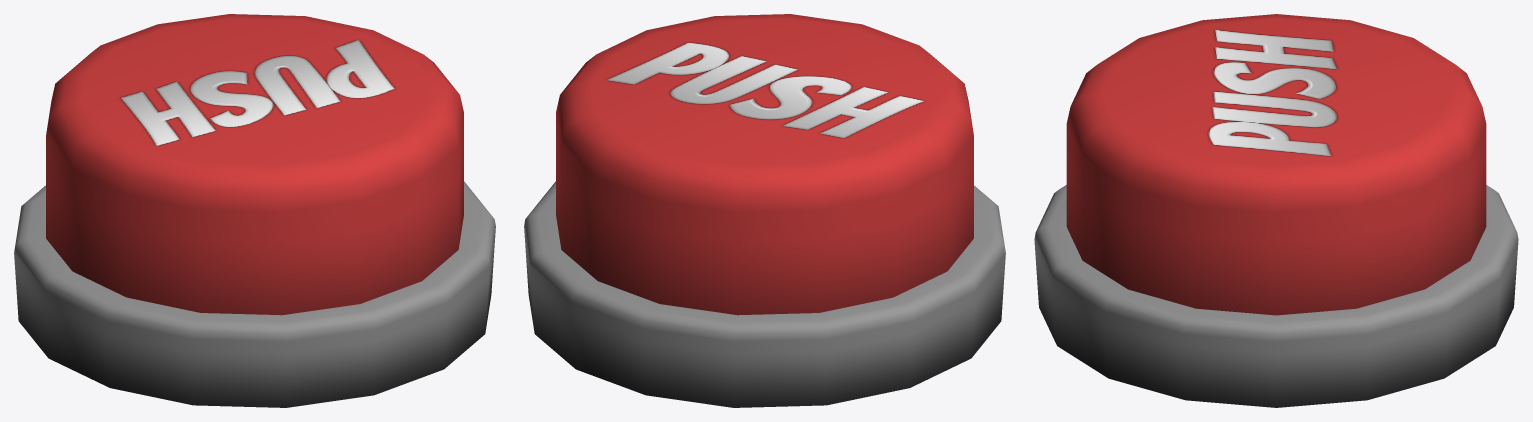
The model's file is Trigger.FBX.
The picture shows the model from 3 angles, left to right: view 1: azimuth 30°, elevation 25°; view 2: azimuth 150°, elevation 25°; view 3: azimuth 270°, elevation 25°; orthographic projection.
Parts seen in each view (by area): view 1: Push, Cylinder002; view 2: Push, Cylinder002; view 3: Push, Cylinder002.
Part boxes in pixels (x1,y1,x2,y2): Push: (46,14,463,315); Cylinder002: (14,181,495,407); Push: (556,14,973,315); Cylinder002: (524,181,1005,407); Push: (1066,14,1486,315); Cylinder002: (1034,185,1518,407).
Bounding box in the file's own units: 34.33 × 16.84 × 34.33.
